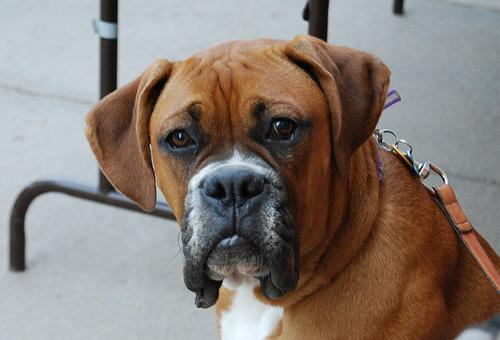dog-saint_bernard: (82, 33, 390, 308)
